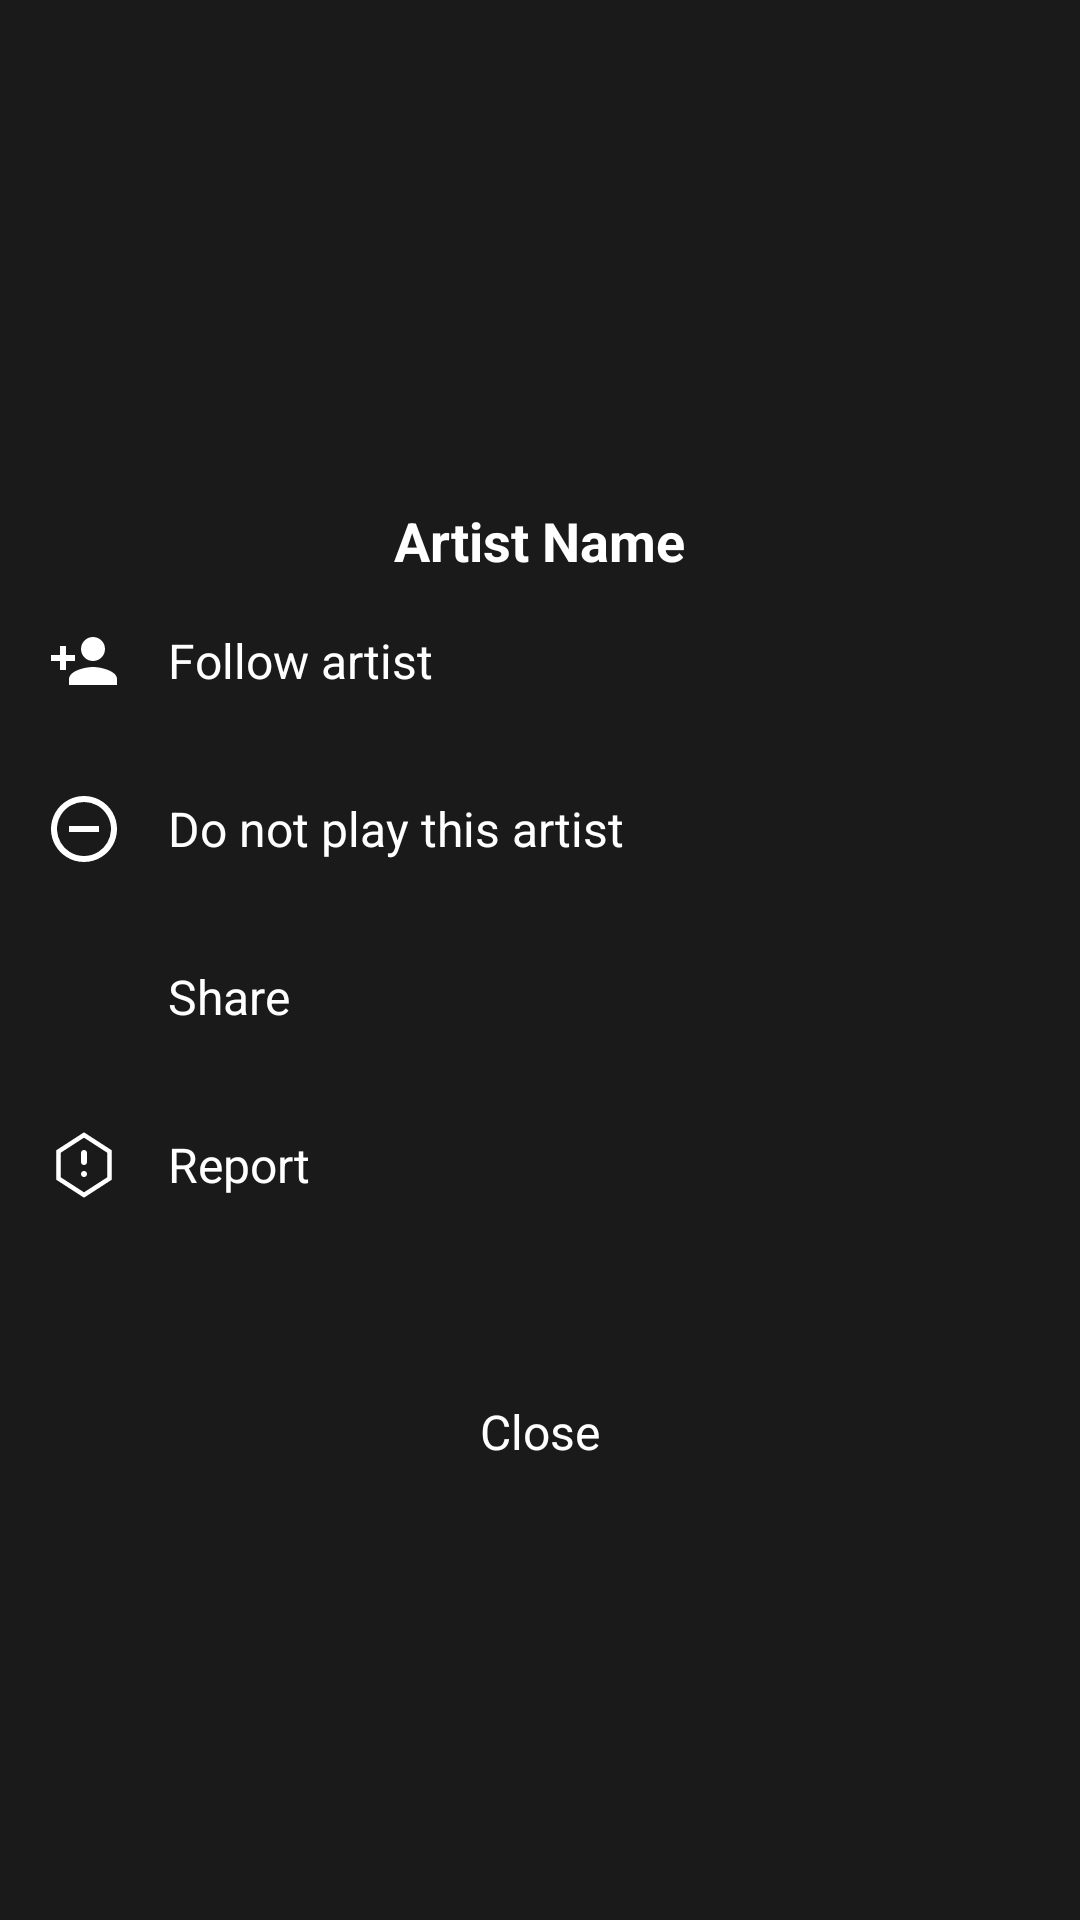

Screen size 1080px×1920px. Icon name, then its center in pixels as (x=x, y=y):
block: (x=84, y=829)
